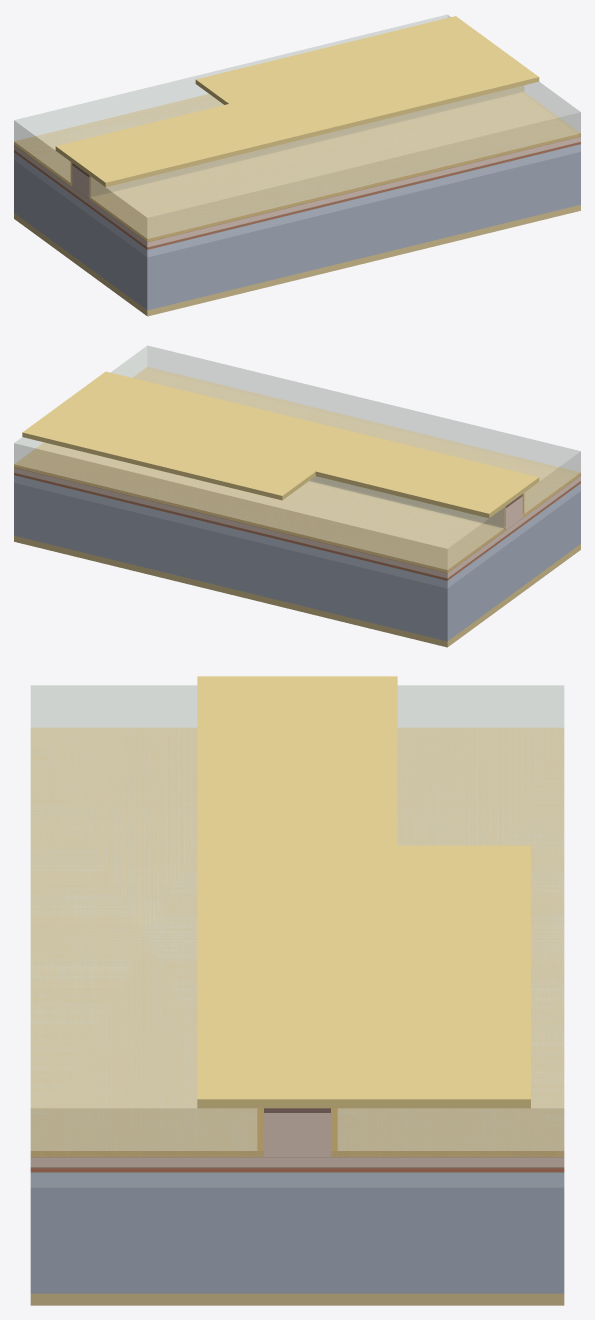
Rendered from stack-ridge.glb.
3 renders of one model, top to bottom at view 1: azimuth 30°, elevation 25°; view 2: azimuth 150°, elevation 25°; view 3: azimuth 270°, elevation 25°, orthographic. The views are drawn at different scales.
Parts seen in each view (by area): view 1: bcb, sin, pmetal, sub, ninp, nmetal, pinp, sch, estop, qw; view 2: bcb, pmetal, sub, sin, ninp, nmetal, pinp, sch, estop, qw; view 3: bcb, pmetal, sin, sub, pinp, ninp, nmetal, estop, sch, qw.
Part boxes in pixels (x1,y1,x2,y2): bcb: [14, 14, 580, 238]; sin: [14, 85, 580, 241]; pmetal: [55, 16, 539, 187]; sub: [14, 152, 580, 310]; ninp: [14, 144, 580, 257]; nmetal: [14, 205, 580, 316]; pinp: [14, 136, 580, 247]; sch: [14, 141, 580, 249]; estop: [14, 136, 580, 242]; qw: [14, 142, 580, 248]; bcb: [14, 345, 580, 569]; pmetal: [22, 371, 539, 518]; sub: [14, 483, 580, 641]; sin: [14, 367, 580, 572]; ninp: [14, 475, 580, 588]; nmetal: [14, 536, 580, 647]; pinp: [14, 467, 580, 578]; sch: [14, 472, 580, 580]; estop: [14, 467, 580, 573]; qw: [14, 473, 580, 579]; bcb: [30, 685, 564, 1150]; pmetal: [197, 676, 530, 1108]; sin: [30, 727, 564, 1156]; sub: [30, 1187, 564, 1293]; pinp: [30, 1113, 564, 1167]; ninp: [30, 1172, 564, 1187]; nmetal: [30, 1293, 564, 1305]; estop: [31, 1151, 563, 1157]; sch: [30, 1167, 564, 1172]; qw: [30, 1168, 564, 1171].
Size of the model in its own units: 30 by 6.82 by 16.
